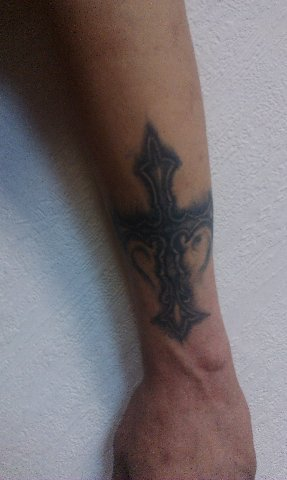tatu9_krest: (114, 127, 229, 341)
